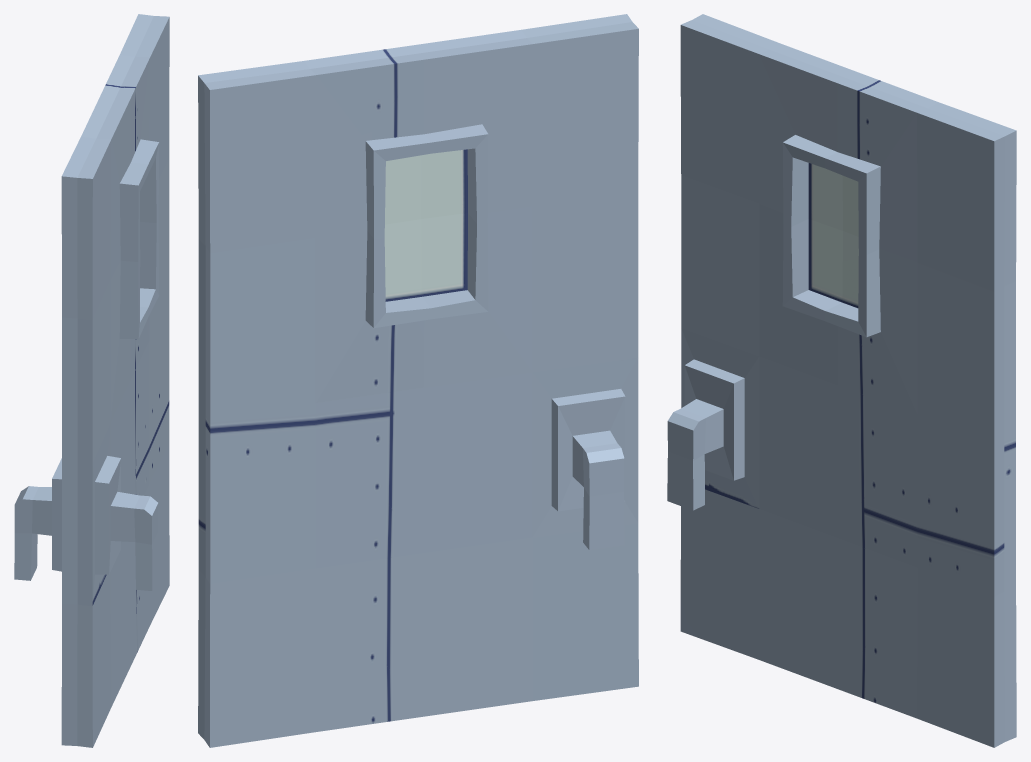
File: object_13.001_lev3.glb
The picture shows the model from 3 angles, left to right: view 1: azimuth 30°, elevation 25°; view 2: azimuth 150°, elevation 25°; view 3: azimuth 270°, elevation 25°; orthographic projection. The views are drawn at different scales.
Visible parts, largest first — view 1: object_13.001_lev3; view 2: object_13.001_lev3; view 3: object_13.001_lev3.
Part boxes in pixels (x1,y1,x2,y2): object_13.001_lev3: (14,14,169,747); object_13.001_lev3: (198,14,638,747); object_13.001_lev3: (667,14,1016,747).
Bounding box in the file's own units: 2.21 × 4.58 × 2.39.
1 material, 1 textured.
